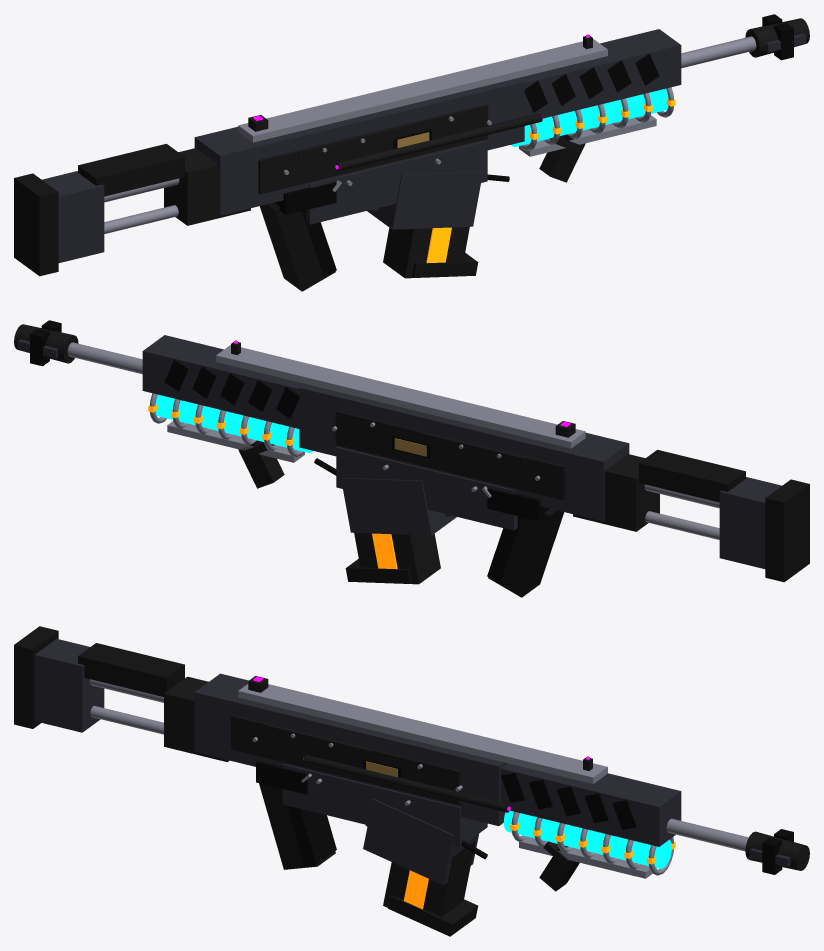
File: assalto.glb
3 renders of one model, top to bottom at view 1: azimuth 30°, elevation 25°; view 2: azimuth 150°, elevation 25°; view 3: azimuth 330°, elevation 25°, orthographic.
Parts seen in each view (by area): view 1: AssaultRifle; view 2: AssaultRifle; view 3: AssaultRifle.
Part boxes in pixels (left/top/right/bottom): AssaultRifle: left=14, top=14, right=809, bottom=291; AssaultRifle: left=14, top=320, right=809, bottom=597; AssaultRifle: left=14, top=626, right=809, bottom=936.
Size of the model in its own units: 6.13 by 1.51 by 0.475.
